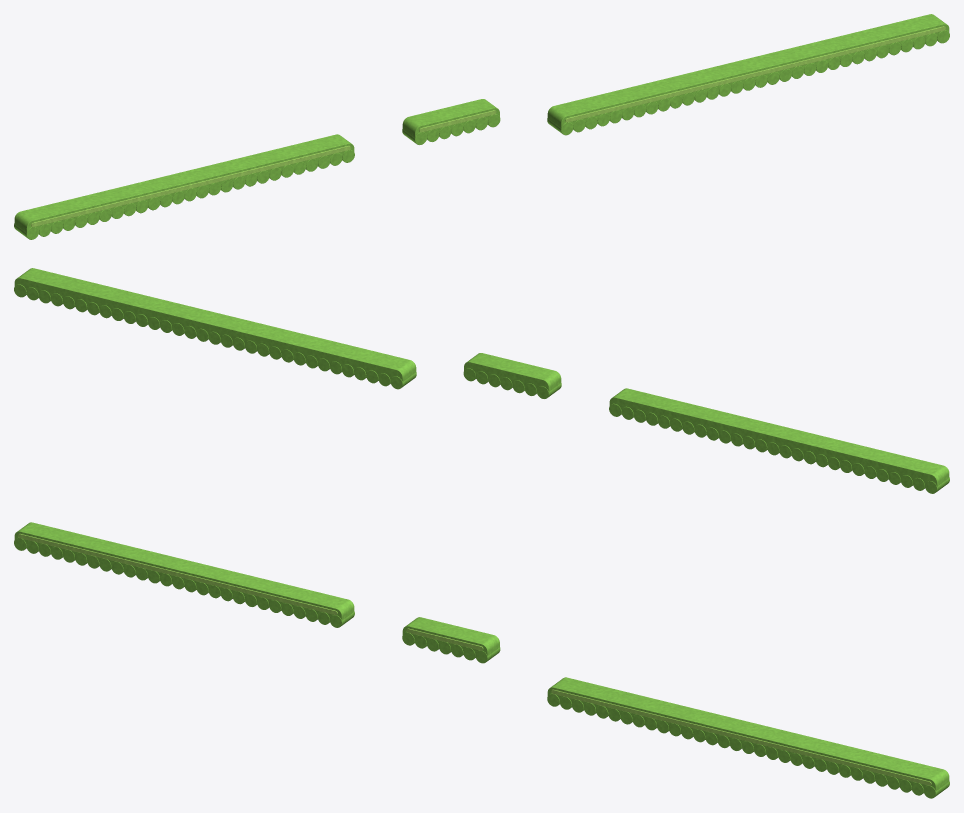
File: gras_level4.glb
The picture shows the model from 3 angles, top to bottom: view 1: azimuth 30°, elevation 25°; view 2: azimuth 150°, elevation 25°; view 3: azimuth 330°, elevation 25°; orthographic projection.
Parts seen in each view (by area): view 1: gras_L4_03, gras_L4_01, gras_L4_02; view 2: gras_L4_03, gras_L4_01, gras_L4_02; view 3: gras_L4_03, gras_L4_01, gras_L4_02.
Part boxes in pixels (bbox=[...]): gras_L4_03: bbox=[547, 14, 949, 135]; gras_L4_01: bbox=[14, 134, 354, 239]; gras_L4_02: bbox=[402, 99, 500, 144]; gras_L4_03: bbox=[14, 268, 416, 389]; gras_L4_01: bbox=[609, 388, 949, 493]; gras_L4_02: bbox=[463, 353, 561, 398]; gras_L4_03: bbox=[547, 677, 949, 798]; gras_L4_01: bbox=[14, 522, 354, 627]; gras_L4_02: bbox=[402, 617, 500, 663].
Size of the model in its own units: 45.63 by 2.09 by 1.23.
2 materials, 2 textured.
